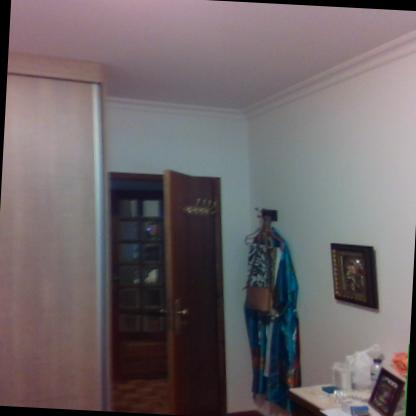semi: (79, 156, 239, 414)
